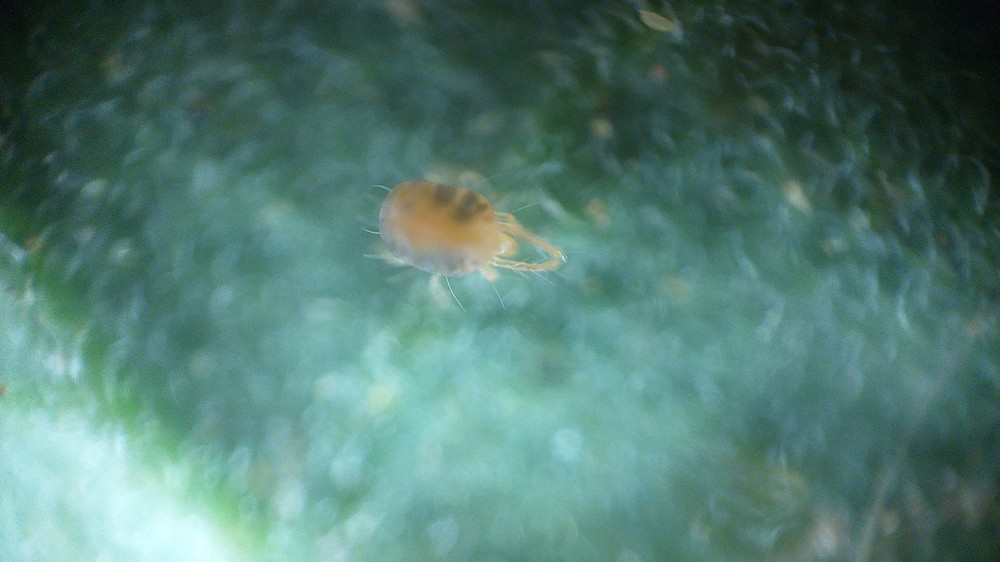Aracnido Rojo: (328, 146, 601, 323)
